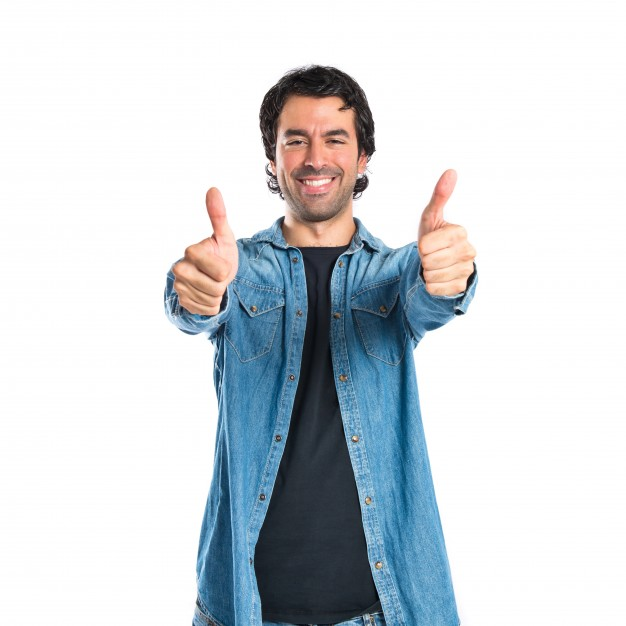thumbsup: (171, 187, 231, 315), (418, 168, 476, 297)
